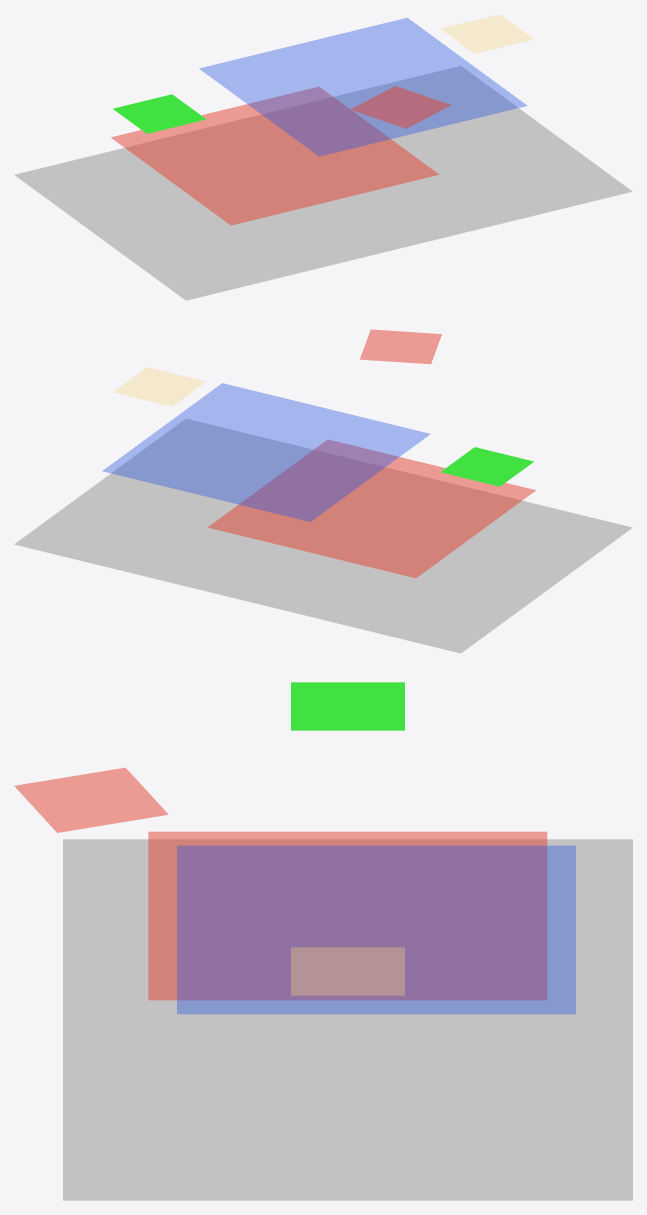
Rendered from static-hdr-blend-v1.glb.
The picture shows the model from 3 angles, top to bottom: view 1: azimuth 30°, elevation 25°; view 2: azimuth 150°, elevation 25°; view 3: azimuth 270°, elevation 25°; orthographic projection. The views are drawn at different scales.
Visible parts, largest first — view 1: opaque-backdrop, red-layer (×2), blue-layer, mask-above-cutoff, explicit-unlit-layer; view 2: opaque-backdrop, red-layer (×2), blue-layer, mask-above-cutoff, explicit-unlit-layer; view 3: opaque-backdrop, red-layer (×2), blue-layer, mask-above-cutoff, explicit-unlit-layer.
Boxes of the visible parts, bbox=[...] form: opaque-backdrop: bbox=[14, 66, 632, 300]; red-layer (×2): bbox=[111, 86, 450, 225]; blue-layer: bbox=[199, 18, 526, 156]; mask-above-cutoff: bbox=[113, 94, 206, 133]; explicit-unlit-layer: bbox=[441, 14, 533, 53]; opaque-backdrop: bbox=[14, 418, 632, 653]; red-layer (×2): bbox=[208, 329, 535, 578]; blue-layer: bbox=[103, 383, 429, 521]; mask-above-cutoff: bbox=[440, 447, 533, 486]; explicit-unlit-layer: bbox=[113, 367, 205, 406]; opaque-backdrop: bbox=[63, 839, 632, 1200]; red-layer (×2): bbox=[14, 767, 547, 1000]; blue-layer: bbox=[177, 846, 575, 1013]; mask-above-cutoff: bbox=[291, 682, 404, 730]; explicit-unlit-layer: bbox=[291, 947, 404, 995].
Bounding box in the file's own units: 6 × 1.7 × 4.34.
Materials: 5 (5 with a texture image).
